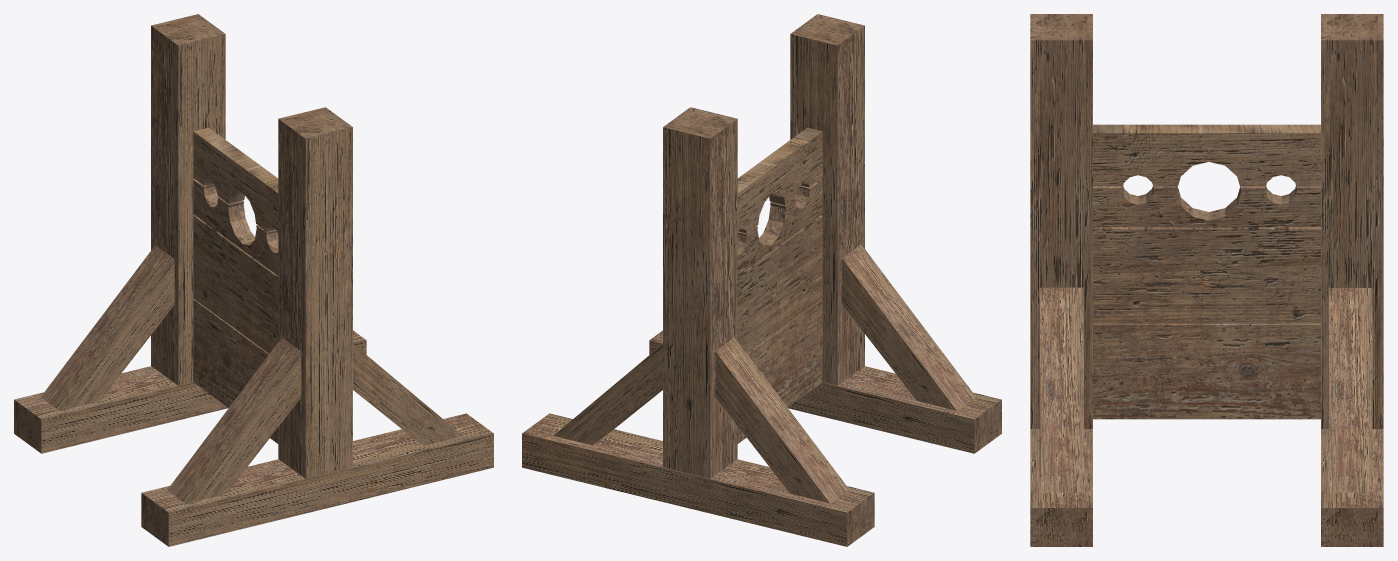
File: Torture001.fbx
3 renders of one model, left to right at view 1: azimuth 30°, elevation 25°; view 2: azimuth 150°, elevation 25°; view 3: azimuth 270°, elevation 25°, orthographic. The views are drawn at different scales.
Parts seen in each view (by area): view 1: Cube.003, Cube.004, Cube.008, Cube.009, Cube.010, Cube.011, Cube.006, Cube.005, hole, Cube.013, hole.001; view 2: Cube.004, Cube.003, Cube.009, Cube.008, Cube.010, Cube.011, Cube.006, hole, Cube.005, Cube.012, hole.001; view 3: Cube.005, Cube.006, Cube.004, Cube.003, hole, Cube.013, Cube.012, hole.001, Cube.009, Cube.008.
Boxes of the visible parts, <box> form: Cube.003: <box>278,107,352,478</box>; Cube.004: <box>151,14,225,385</box>; Cube.008: <box>141,413,493,546</box>; Cube.009: <box>14,330,366,453</box>; Cube.010: <box>167,337,301,503</box>; Cube.011: <box>41,245,174,410</box>; Cube.006: <box>193,215,278,353</box>; Cube.005: <box>193,299,278,443</box>; hole: <box>193,127,278,233</box>; Cube.013: <box>353,344,462,445</box>; hole.001: <box>193,179,278,275</box>; Cube.004: <box>663,107,737,478</box>; Cube.003: <box>790,14,864,385</box>; Cube.009: <box>522,413,874,546</box>; Cube.008: <box>649,330,1001,453</box>; Cube.010: <box>842,244,975,410</box>; Cube.011: <box>715,337,848,503</box>; Cube.006: <box>737,215,822,353</box>; hole: <box>737,127,822,233</box>; Cube.005: <box>737,299,822,443</box>; Cube.012: <box>553,344,662,445</box>; hole.001: <box>737,179,822,275</box>; Cube.005: <box>1093,323,1320,419</box>; Cube.006: <box>1093,227,1320,323</box>; Cube.004: <box>1321,14,1383,428</box>; Cube.003: <box>1030,14,1092,428</box>; hole: <box>1093,124,1320,186</box>; Cube.013: <box>1039,287,1084,492</box>; Cube.012: <box>1329,288,1372,492</box>; hole.001: <box>1093,186,1320,227</box>; Cube.009: <box>1321,429,1383,546</box>; Cube.008: <box>1030,429,1092,546</box>.
Bounding box in the file's own units: 1373 × 1513 × 1131.
Materials: 2 (2 with a texture image).
